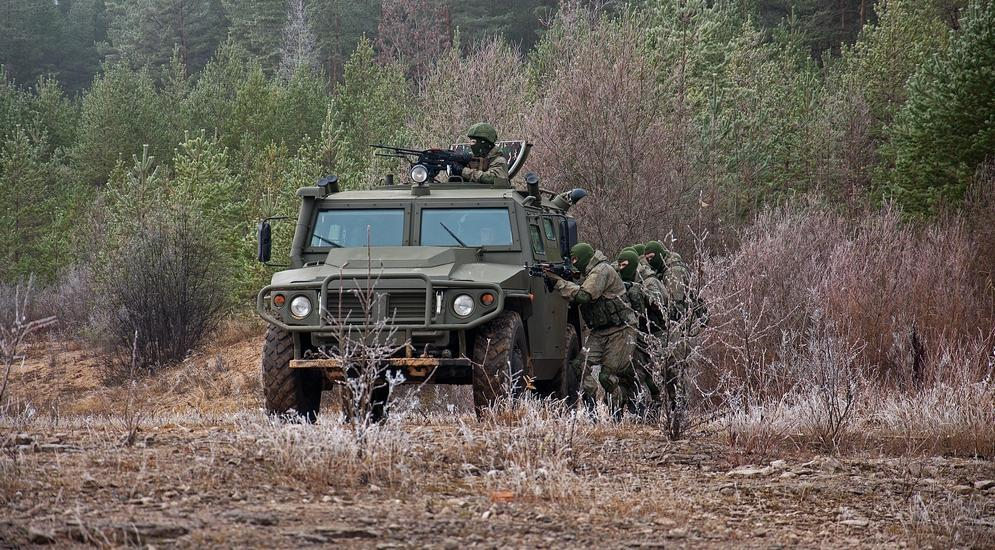armored_car: (256, 139, 587, 424)
person: (545, 242, 639, 422), (644, 240, 700, 423), (618, 250, 669, 422)
